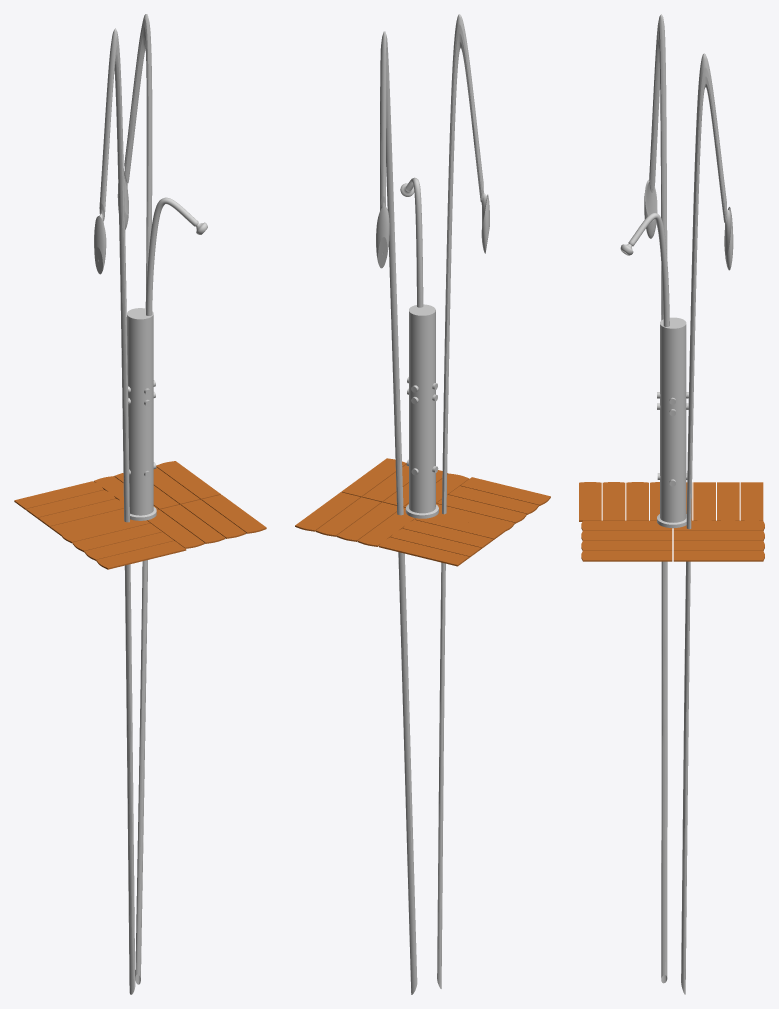
File: dus (1).fbx
3 views of the same model, side by side, from view 1: azimuth 30°, elevation 25°; view 2: azimuth 150°, elevation 25°; view 3: azimuth 270°, elevation 25° (orthographic).
Parts seen in each view (by area): view 1: Cube.006, Cylinder.136, Cylinder.151, Cylinder.135, NurbsPath.010; view 2: Cube.006, Cylinder.151, Cylinder.136, Cylinder.135, NurbsPath.010; view 3: Cube.006, Cylinder.151, Cylinder.136, Cylinder.135, NurbsPath.010.
Part boxes in pixels (box(x1,y1,x2,y2)): Cube.006: box(14, 461, 266, 569); Cylinder.136: box(94, 28, 135, 994); Cylinder.151: box(117, 14, 152, 984); Cylinder.135: box(127, 308, 156, 520); NurbsPath.010: box(146, 197, 207, 315); Cube.006: box(295, 458, 550, 566); Cylinder.151: box(376, 31, 417, 994); Cylinder.136: box(437, 14, 489, 988); Cylinder.135: box(405, 304, 438, 518); NurbsPath.010: box(400, 177, 423, 307); Cube.006: box(579, 482, 764, 561); Cylinder.151: box(681, 53, 733, 994); Cylinder.136: box(644, 14, 667, 983); Cylinder.135: box(657, 317, 688, 528); NurbsPath.010: box(620, 213, 669, 326).
Bounding box in the file's own units: 77.51 × 444 × 77.71.
